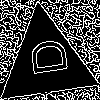D: (21, 36, 68, 79)
